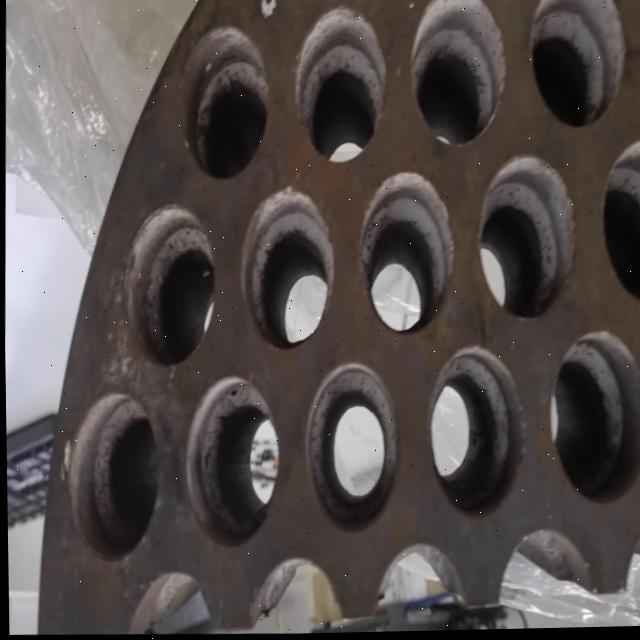Hole: (424, 345, 525, 523), (300, 361, 399, 540), (474, 152, 577, 324), (180, 375, 280, 550), (60, 392, 160, 566), (545, 329, 640, 509), (355, 170, 456, 339), (237, 186, 336, 356), (122, 203, 217, 370), (292, 5, 388, 166), (407, 0, 508, 150), (179, 26, 270, 182), (528, 0, 628, 135), (599, 138, 640, 309)
